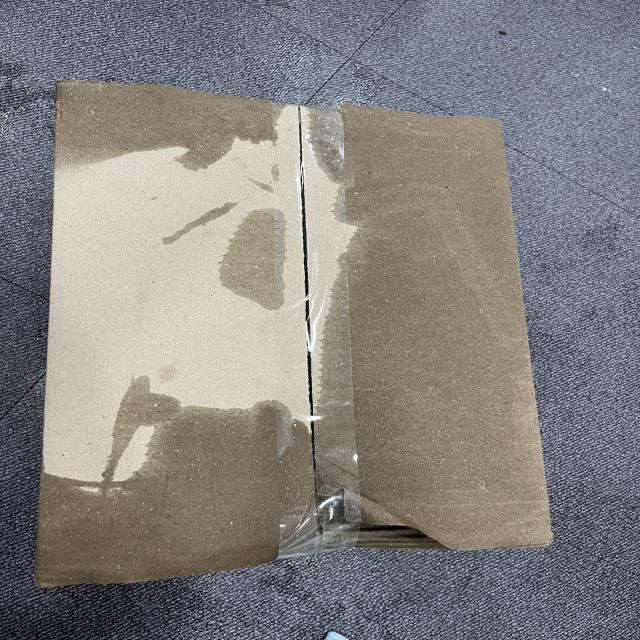wet: (326, 72, 554, 574), (35, 394, 312, 581), (30, 74, 293, 182)
